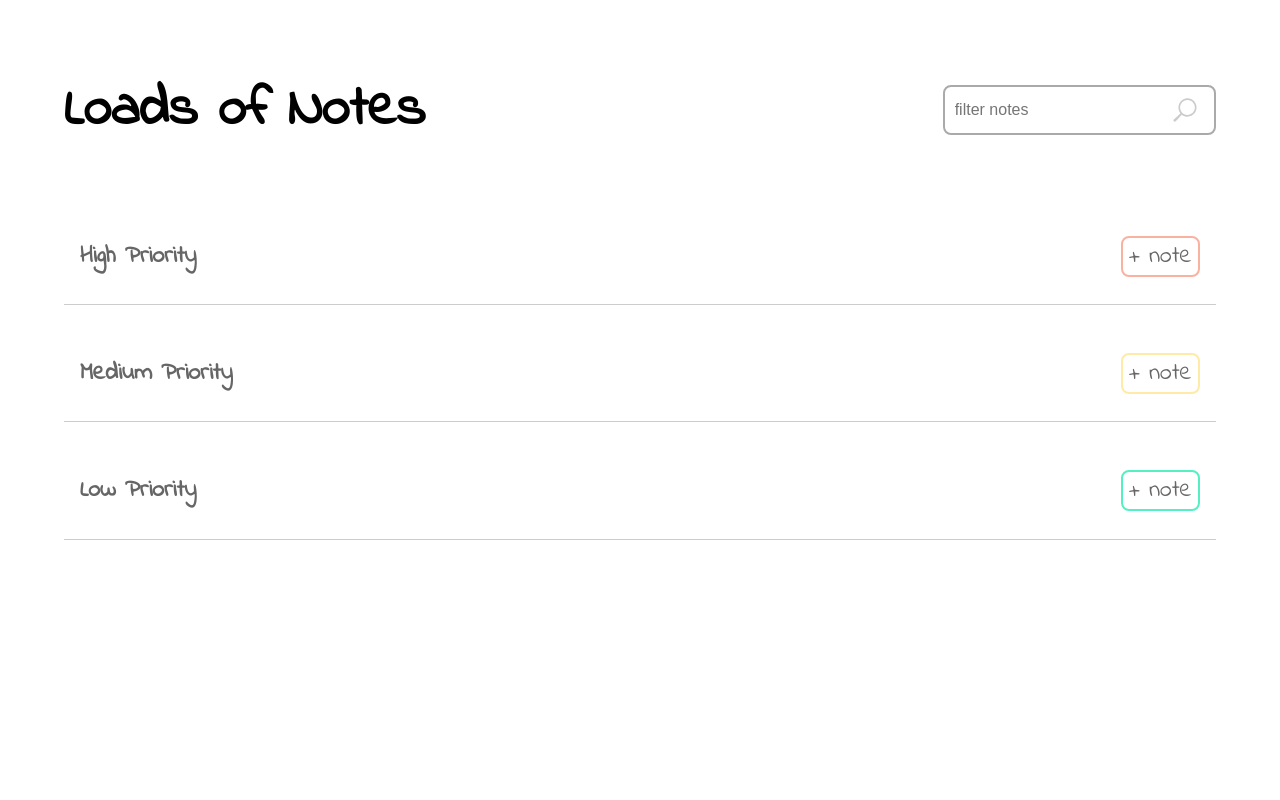
Test: App › without note popup not in dom › shows popup on selecting add new button
The image size is (1280, 800).
Click the button with test id "add-note-button" in the row of "High". click: (1160, 256)
box: [1121,236,1200,277]
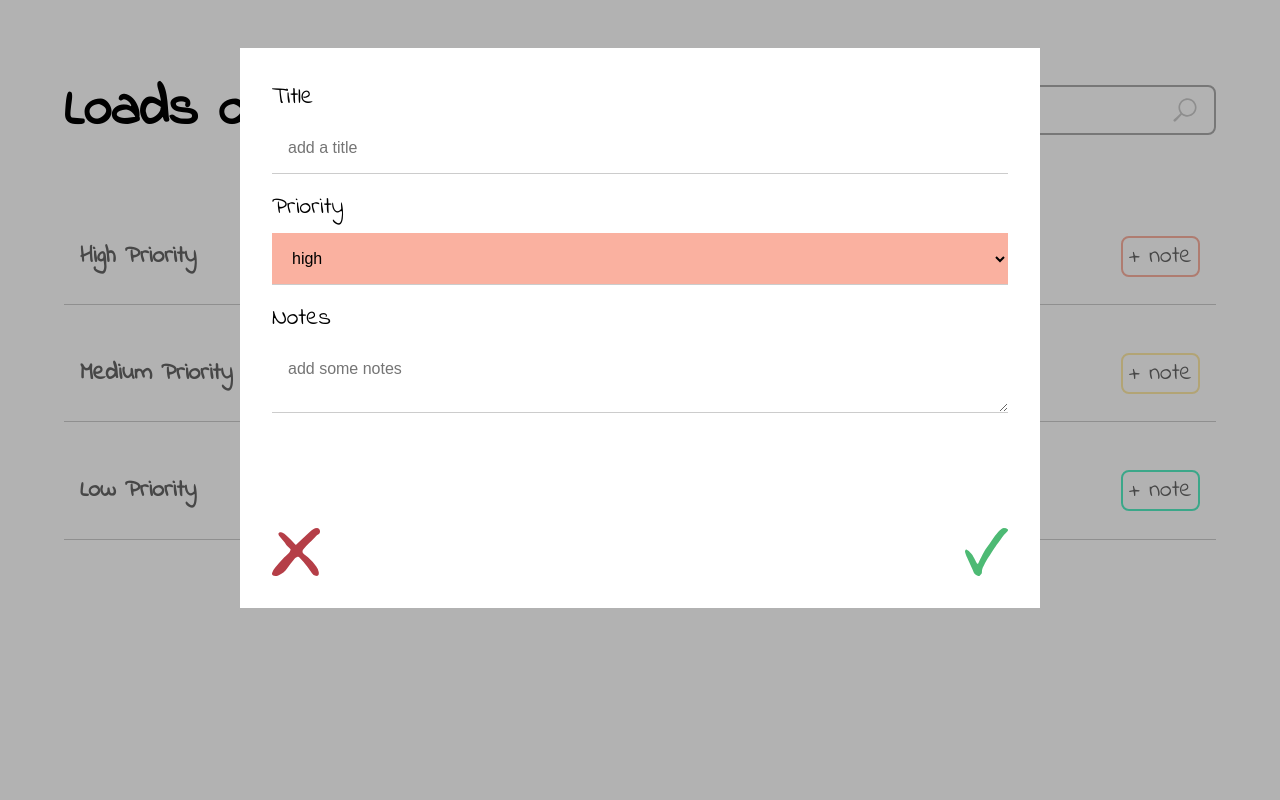
expect the element with test id "component-note" is shown: met, box [240,48,1040,608]
